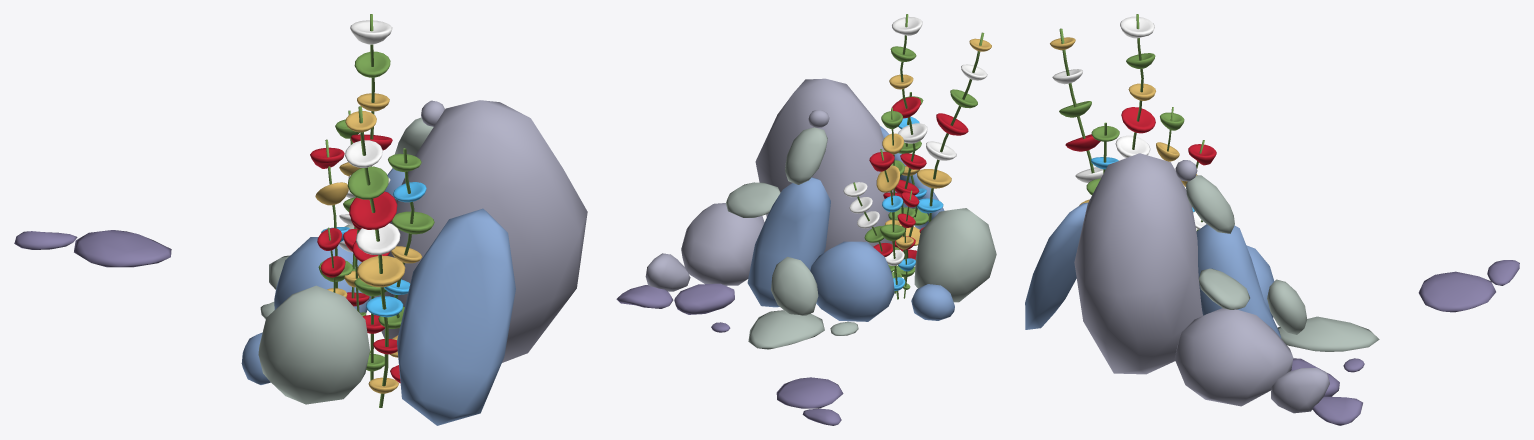
The model's file is rocks4.fbx.
The picture shows the model from 3 angles, left to right: view 1: azimuth 30°, elevation 25°; view 2: azimuth 150°, elevation 25°; view 3: azimuth 270°, elevation 25°; orthographic projection. The views are drawn at different scales.
Visible parts, largest first — view 1: Sand.002; view 2: Sand.002; view 3: Sand.002.
Part boxes in pixels (x1,y1,x2,y2): Sand.002: [14, 14, 587, 425]; Sand.002: [616, 14, 996, 425]; Sand.002: [1025, 14, 1519, 425].
Size of the model in its own units: 825 by 751 by 1058.
